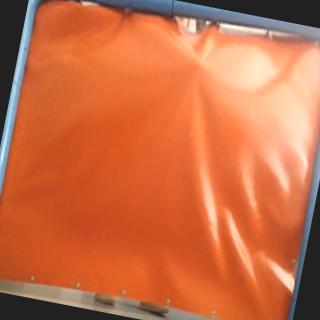Hit-hRxx: (190, 54, 208, 72)
